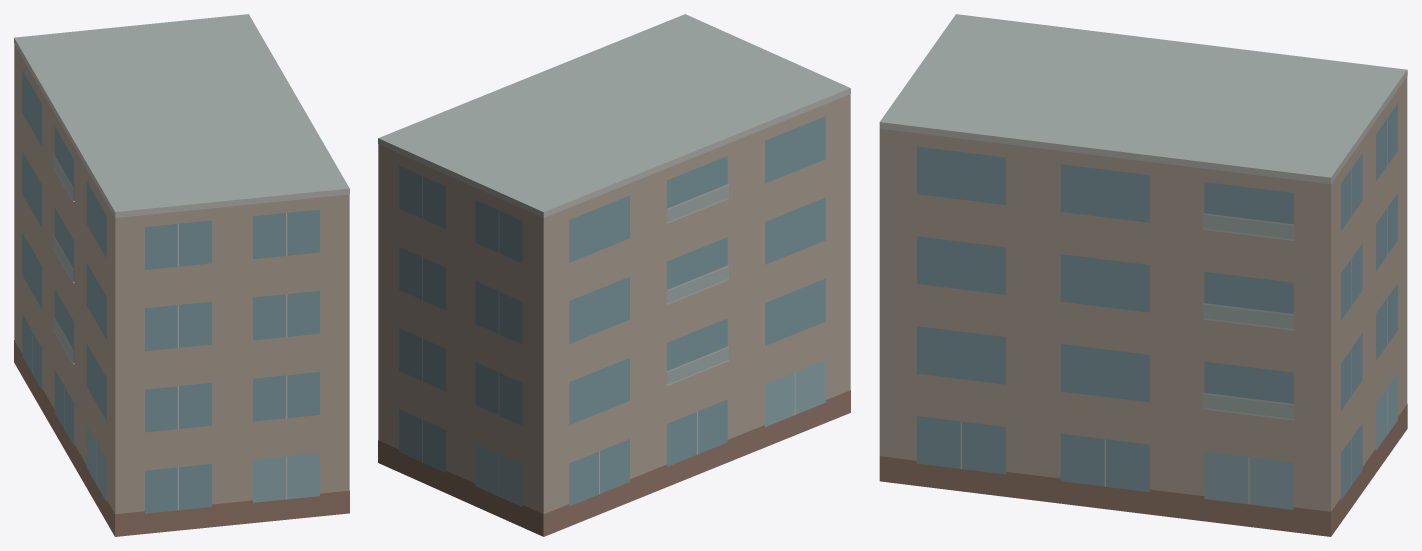
The model's file is survey-upis-32719481.glb.
3 renders of one model, left to right at view 1: azimuth 30°, elevation 25°; view 2: azimuth 150°, elevation 25°; view 3: azimuth 270°, elevation 25°, orthographic. The views are drawn at different scales.
Visible parts, largest first — view 1: survey-upis-32719481.tmp; view 2: survey-upis-32719481.tmp; view 3: survey-upis-32719481.tmp.
Part boxes in pixels (<box>): survey-upis-32719481.tmp: <box>14,14,349,536</box>; survey-upis-32719481.tmp: <box>378,14,850,536</box>; survey-upis-32719481.tmp: <box>879,14,1407,536</box>.
Size of the model in its own units: 13.05 by 13.35 by 17.78.
